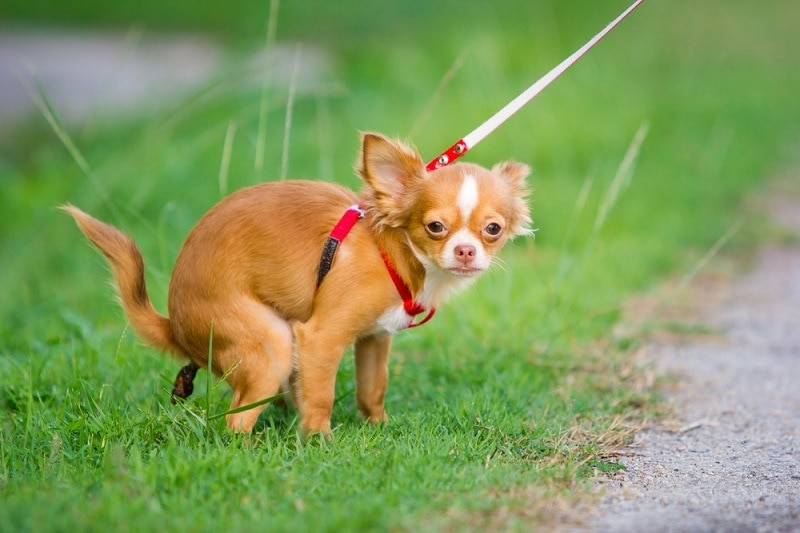dog_pooping: (50, 123, 541, 451)
